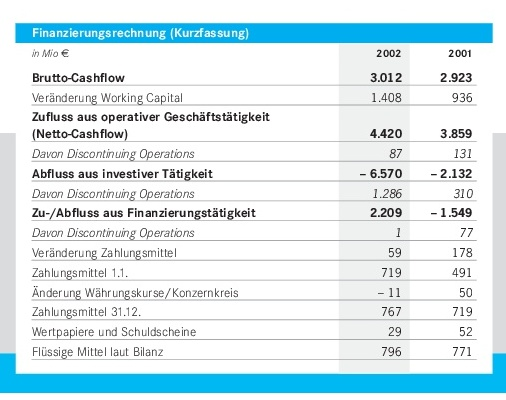table: (0, 0, 506, 400)
